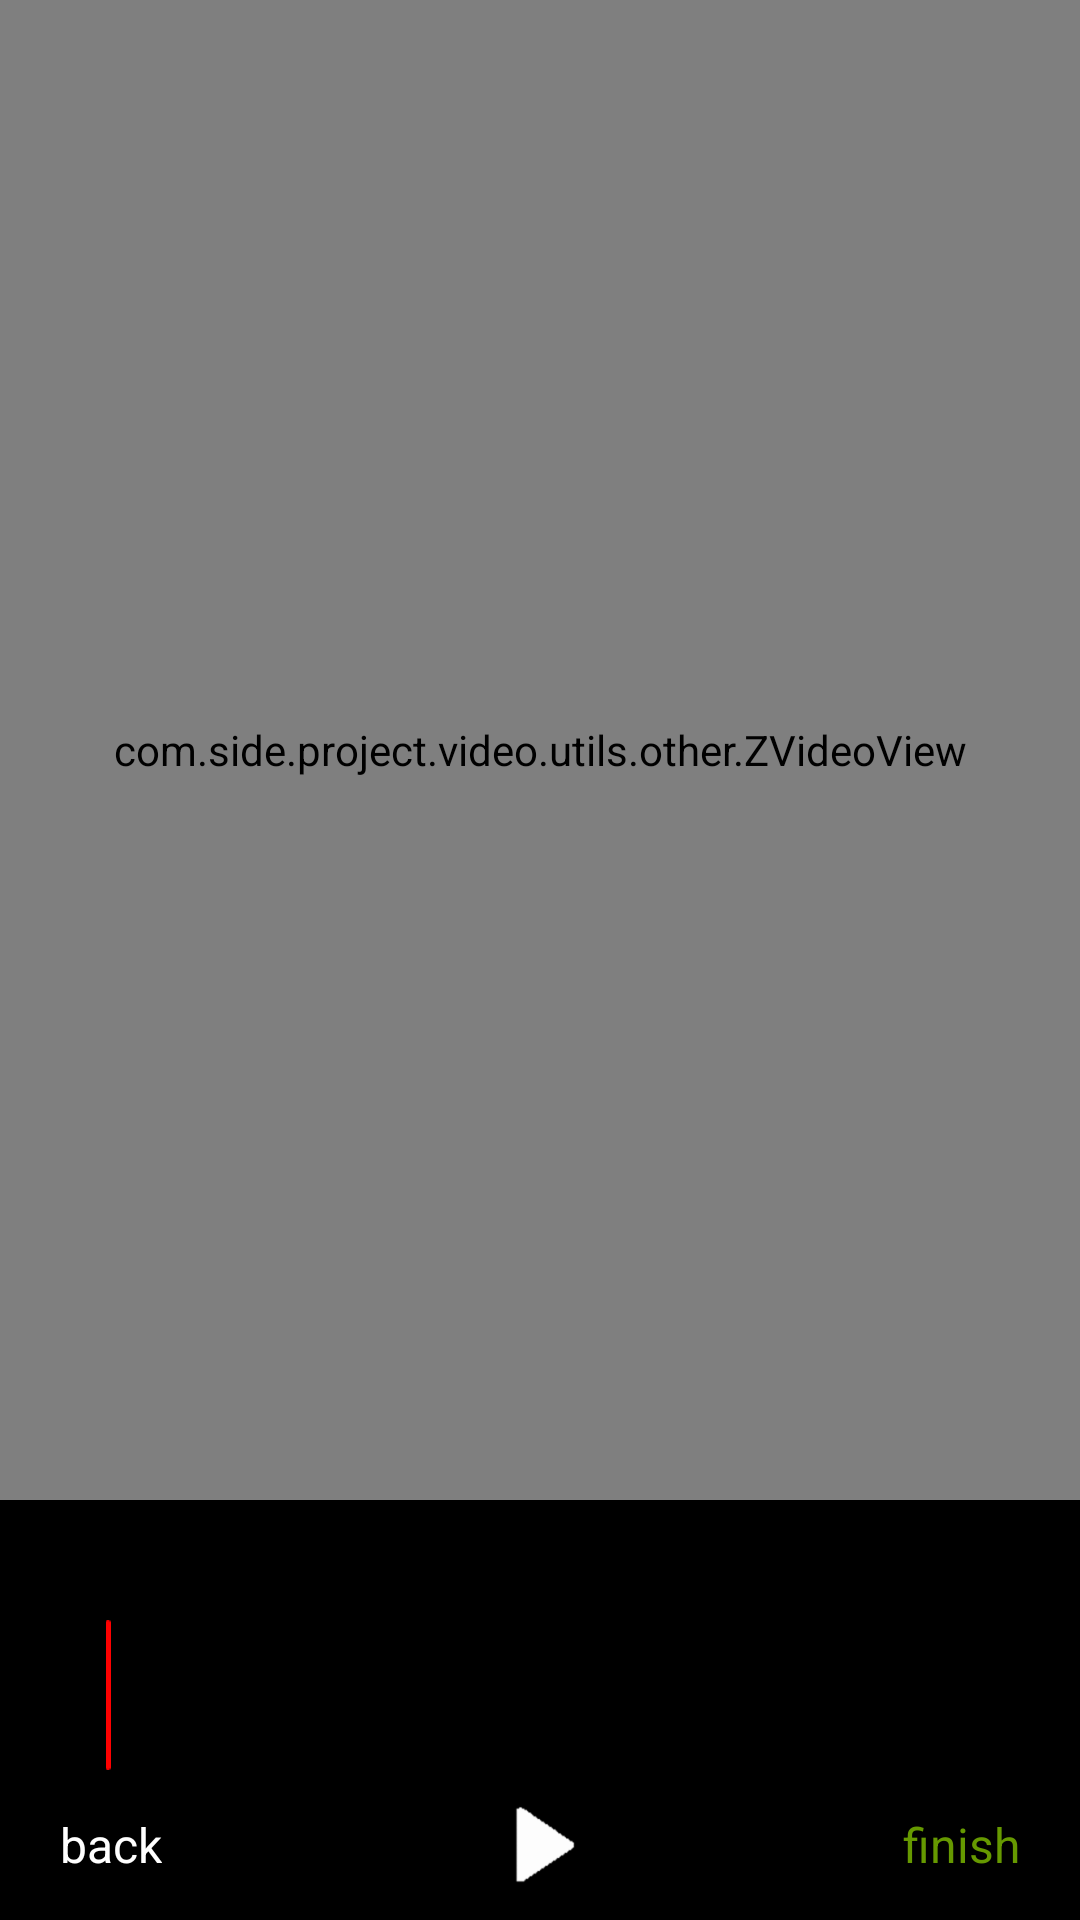

Named icons in this screenshot (1080px x 1920px) and their bounding boxes, (x1, y1, x2, y2):
video play: (516, 1807, 575, 1882)
